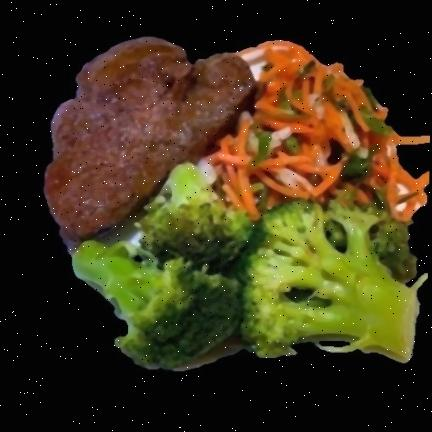broccoli: (73, 164, 427, 368)
carrot: (209, 42, 429, 220)
meat: (44, 38, 256, 240)
